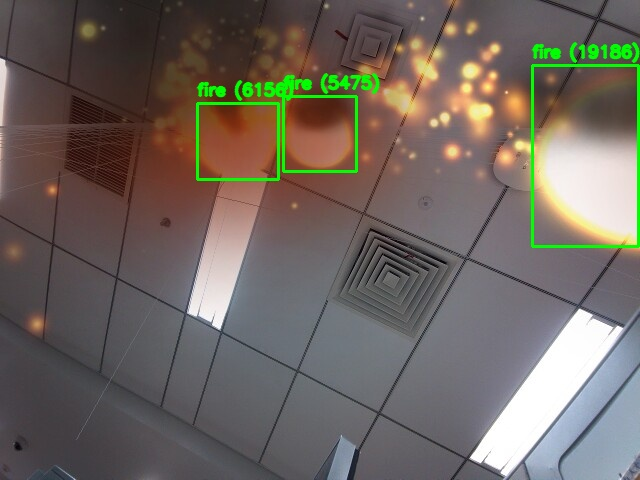fire: (532, 65, 638, 246), (197, 103, 278, 179), (283, 96, 356, 171)
